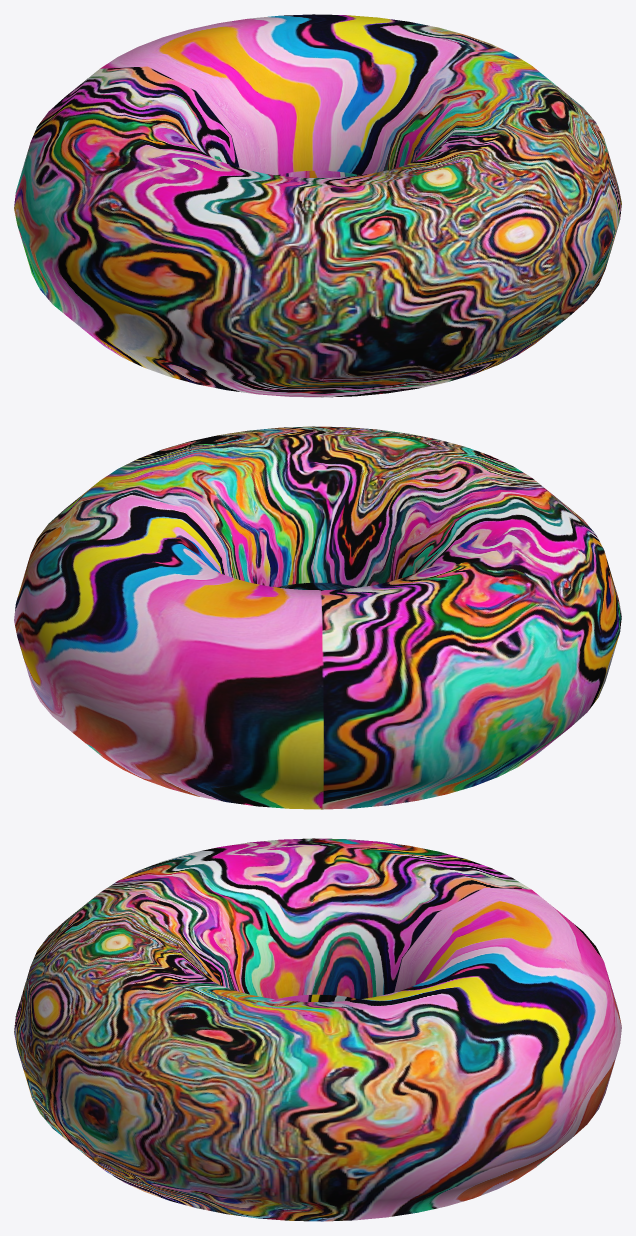
File: bagel.glb
3 renders of one model, top to bottom at view 1: azimuth 30°, elevation 25°; view 2: azimuth 150°, elevation 25°; view 3: azimuth 270°, elevation 25°, orthographic.
Parts seen in each view (by area): view 1: Torus.011; view 2: Torus.011; view 3: Torus.011.
Boxes of the visible parts, <box> form: Torus.011: <box>14,14,621,397</box>; Torus.011: <box>14,426,621,809</box>; Torus.011: <box>14,838,621,1221</box>.
Size of the model in its own units: 0.1842 by 0.0667 by 0.1842.
1 material, 1 textured.
